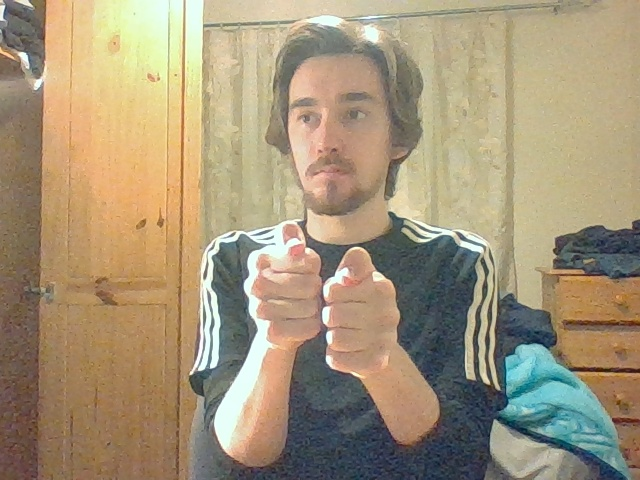brother: (245, 221, 401, 368)
